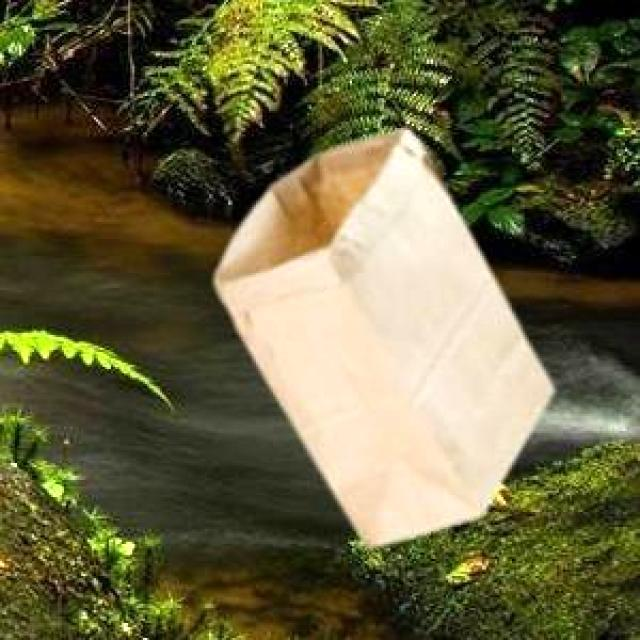Paper_Bag: (212, 127, 550, 543)
